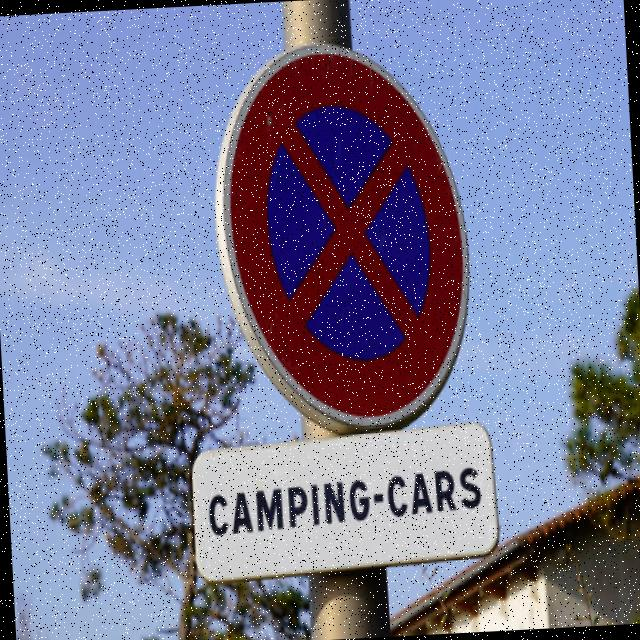no_parking: (209, 37, 485, 440)
